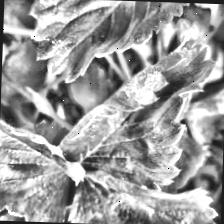Powdery Mildew Leaf: (55, 28, 224, 224), (25, 0, 190, 88), (0, 92, 88, 223)
